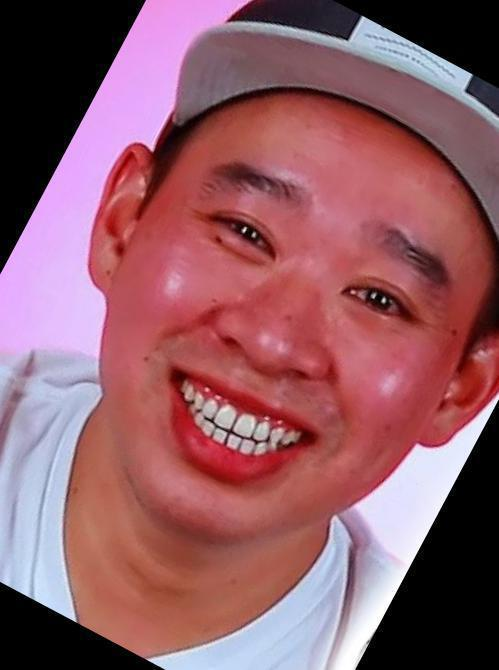Drunk: (126, 137, 447, 514)
